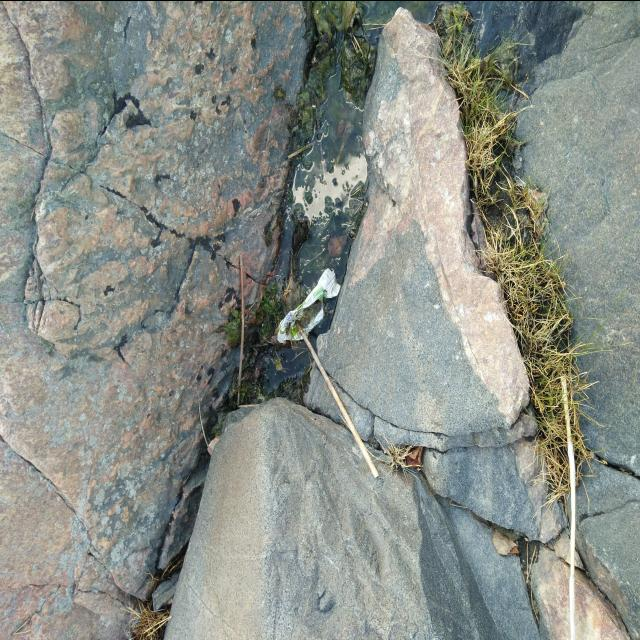Other plastic: (278, 267, 341, 342)
